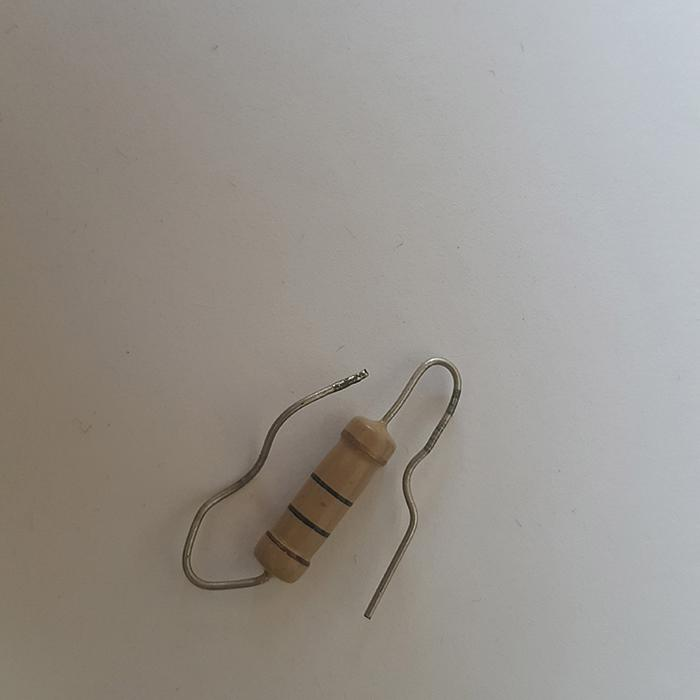resistor: (254, 413, 397, 586)
